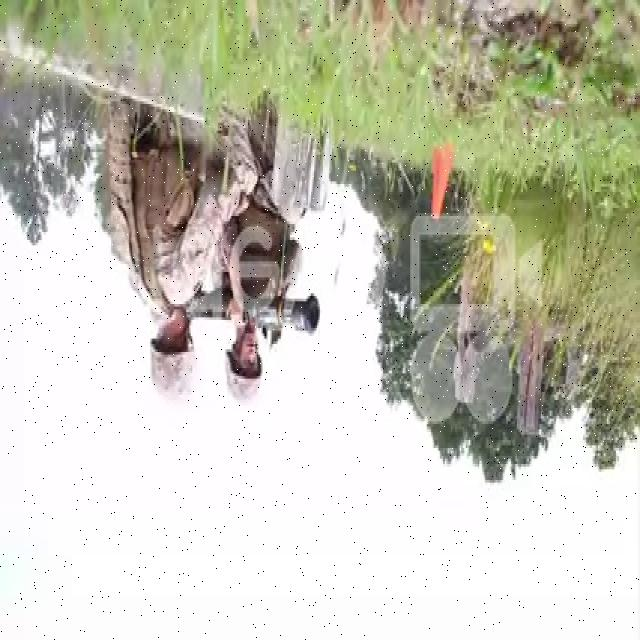bazooka: (194, 289, 324, 344)
